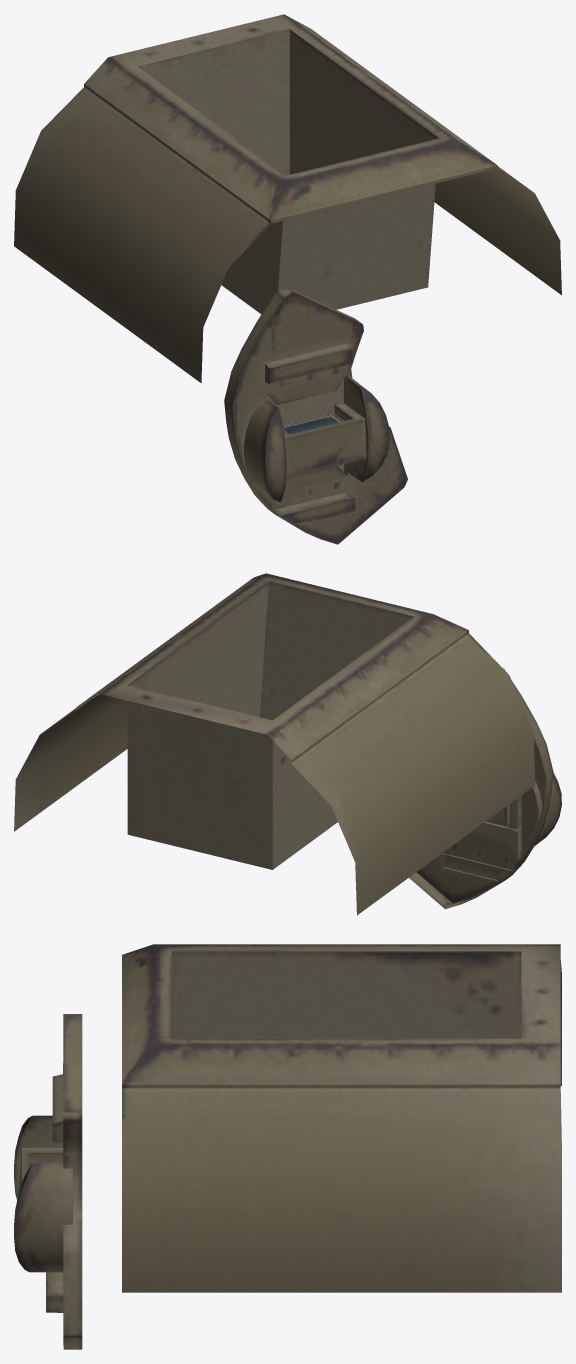
File: Turret_01.glb
The picture shows the model from 3 angles, top to bottom: view 1: azimuth 30°, elevation 25°; view 2: azimuth 150°, elevation 25°; view 3: azimuth 270°, elevation 25°; orthographic projection. The views are drawn at different scales.
Visible parts, largest first — view 1: set_0_group_0; view 2: set_0_group_0; view 3: set_0_group_0.
Boxes of the visible parts, left/top/right/bottom form: set_0_group_0: left=14, top=14, right=561, bottom=544; set_0_group_0: left=14, top=573, right=561, bottom=915; set_0_group_0: left=14, top=944, right=561, bottom=1349.
Bounding box in the file's own units: 0.8392 × 0.749 × 0.9416.
Materials: 1 (1 with a texture image).
